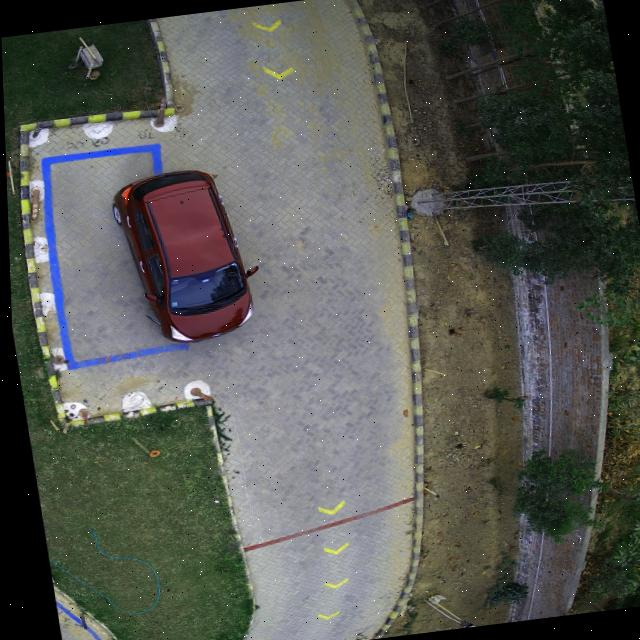car: (110, 170, 253, 344)
